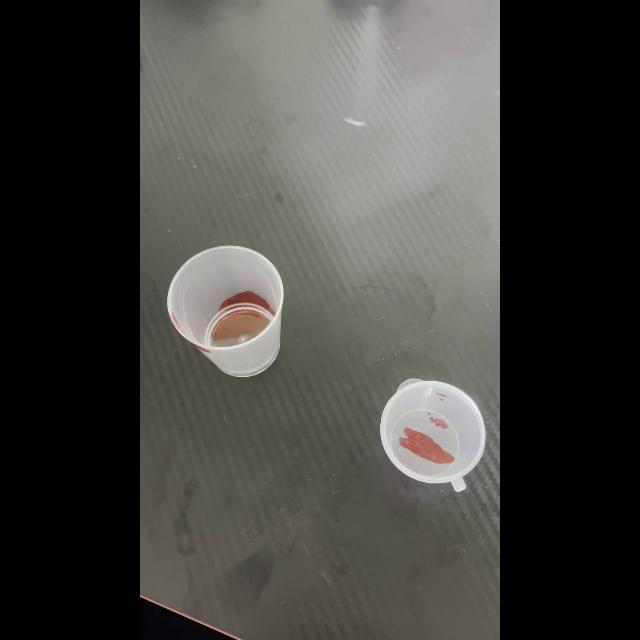dirty: (166, 246, 284, 376), (379, 380, 486, 490)
